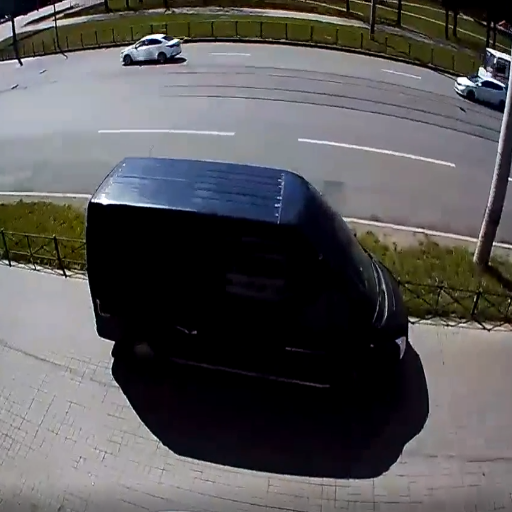Car: (86, 156, 408, 370), (452, 70, 509, 110), (121, 32, 179, 62)
